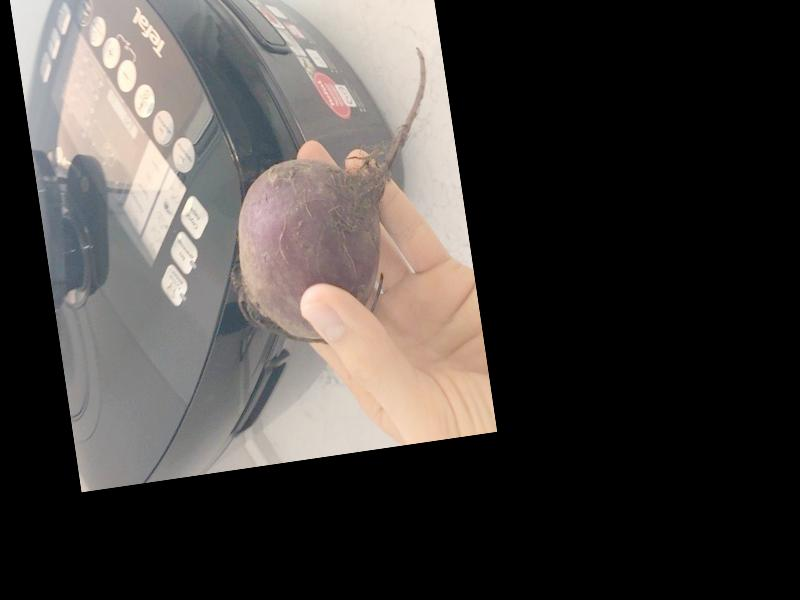Beet: (204, 48, 461, 353)
